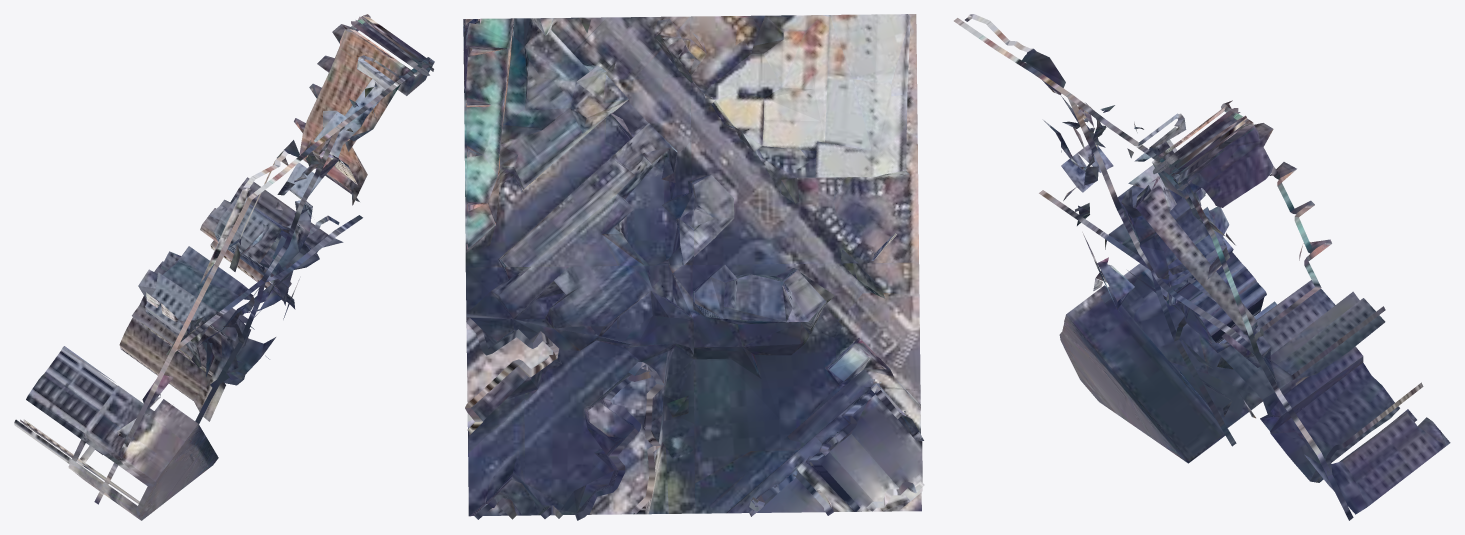
3 renders of one model, left to right at view 1: azimuth 30°, elevation 25°; view 2: azimuth 150°, elevation 25°; view 3: azimuth 270°, elevation 25°, orthographic. The views are drawn at different scales.
Size of the model in its own units: 171 by 158 by 160.
2 materials, 2 textured.
